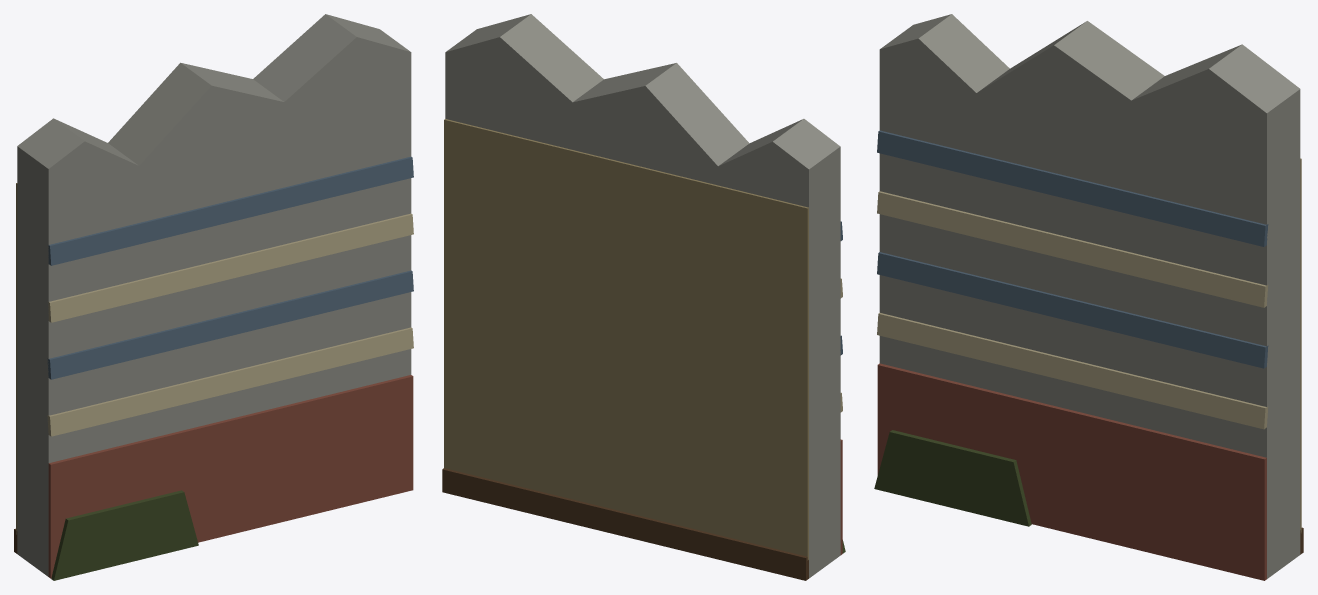
File: ruins_house_wall.glb
The picture shows the model from 3 angles, left to right: view 1: azimuth 30°, elevation 25°; view 2: azimuth 150°, elevation 25°; view 3: azimuth 330°, elevation 25°; orthographic projection. The views are drawn at different scales.
Visible parts, largest first — view 1: ruins_house_wall_mesh; view 2: ruins_house_wall_mesh; view 3: ruins_house_wall_mesh.
Part boxes in pixels (x1,y1,x2,y2): ruins_house_wall_mesh: (14,14,413,580); ruins_house_wall_mesh: (442,14,845,580); ruins_house_wall_mesh: (874,14,1303,580).
Bounding box in the file's own units: 2 × 2.45 × 0.38.
